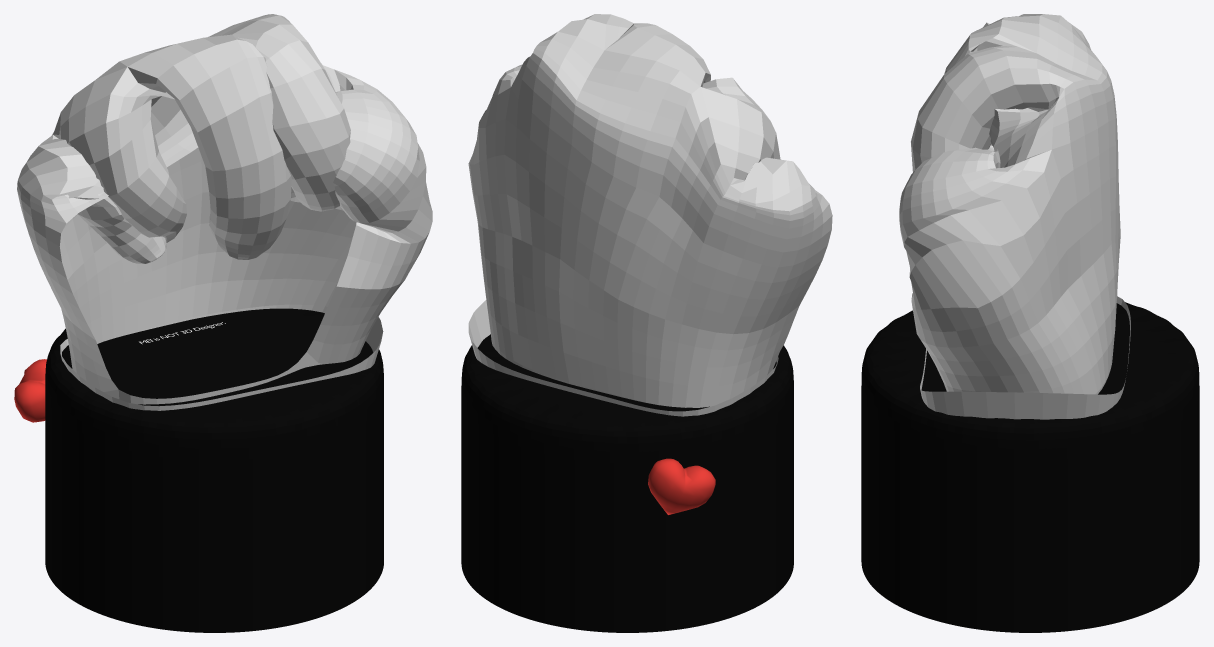
Rendered from finger0Sun.glb.
3 renders of one model, left to right at view 1: azimuth 30°, elevation 25°; view 2: azimuth 150°, elevation 25°; view 3: azimuth 270°, elevation 25°, orthographic.
Visible parts, largest first — view 1: 큐브, 실린더, Sphere; view 2: 큐브, 실린더, Sphere; view 3: 실린더, 큐브.
Part boxes in pixels (left/top/right/bottom): 큐브: left=17, top=14, right=432, bottom=410; 실린더: left=45, top=308, right=383, bottom=632; Sphere: left=14, top=359, right=46, bottom=422; 큐브: left=468, top=14, right=832, bottom=416; 실린더: left=461, top=334, right=793, bottom=632; Sphere: left=648, top=458, right=715, bottom=514; 실린더: left=861, top=302, right=1199, bottom=632; 큐브: left=899, top=14, right=1130, bottom=419.
Bounding box in the file's own units: 1.93 × 2.66 × 1.53.
